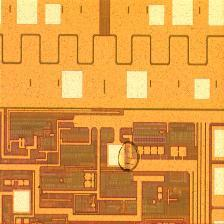COATING BAD: (112, 140, 148, 176)
